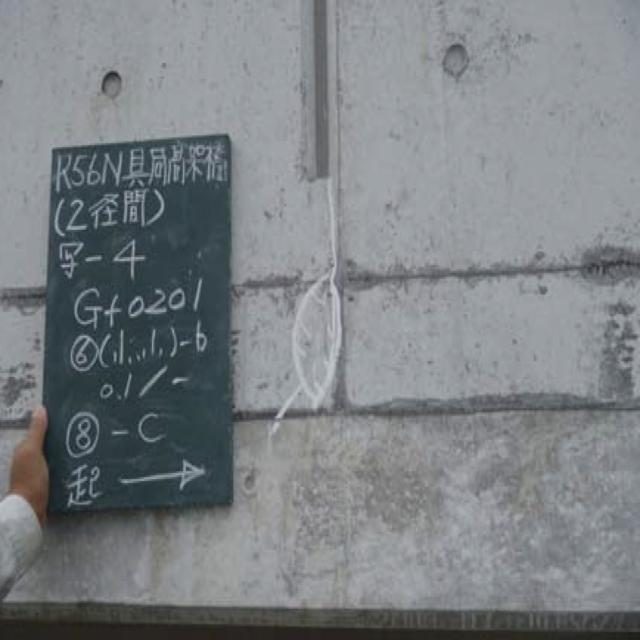freelime: (270, 253, 369, 424)
